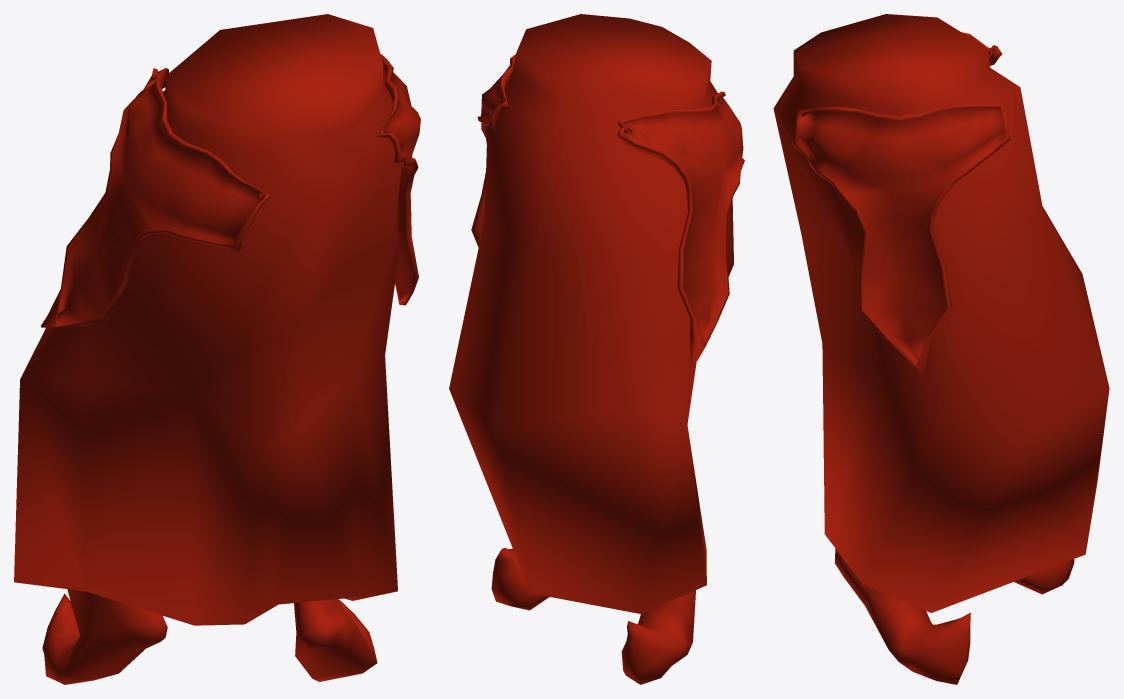
Rendered from bot_000057.obj.
3 views of the same model, side by side, from view 1: azimuth 30°, elevation 25°; view 2: azimuth 150°, elevation 25°; view 3: azimuth 270°, elevation 25° (orthographic). The views are drawn at different scales.
Visible parts, largest first — view 1: LowPoly_Warlock.004_Plane.004; view 2: LowPoly_Warlock.004_Plane.004; view 3: LowPoly_Warlock.004_Plane.004.
Boxes of the visible parts, x1,y1,x2,y2 form: LowPoly_Warlock.004_Plane.004: (14,14,420,684); LowPoly_Warlock.004_Plane.004: (449,14,744,684); LowPoly_Warlock.004_Plane.004: (773,14,1109,684).
Size of the model in its own units: 0.595 by 1.15 by 0.5788.
